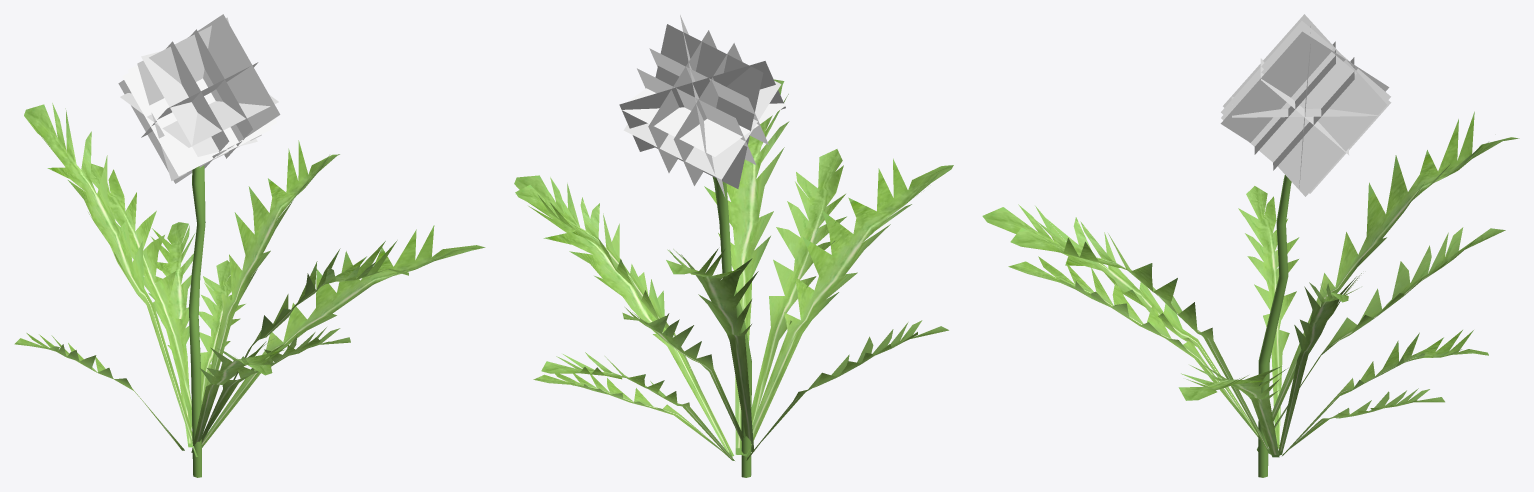
File: flower_dandelion.glb
3 views of the same model, side by side, from view 1: azimuth 30°, elevation 25°; view 2: azimuth 150°, elevation 25°; view 3: azimuth 270°, elevation 25° (orthographic). The views are drawn at different scales.
Parts seen in each view (by area): view 1: flower_dandelion.glb; view 2: flower_dandelion.glb; view 3: flower_dandelion.glb.
Boxes of the visible parts, x1,y1,x2,y2 form: flower_dandelion.glb: [14, 14, 485, 477]; flower_dandelion.glb: [514, 15, 953, 477]; flower_dandelion.glb: [982, 14, 1519, 477].
Size of the model in its own units: 0.2879 by 0.274 by 0.2855.
3 materials, 1 textured.
